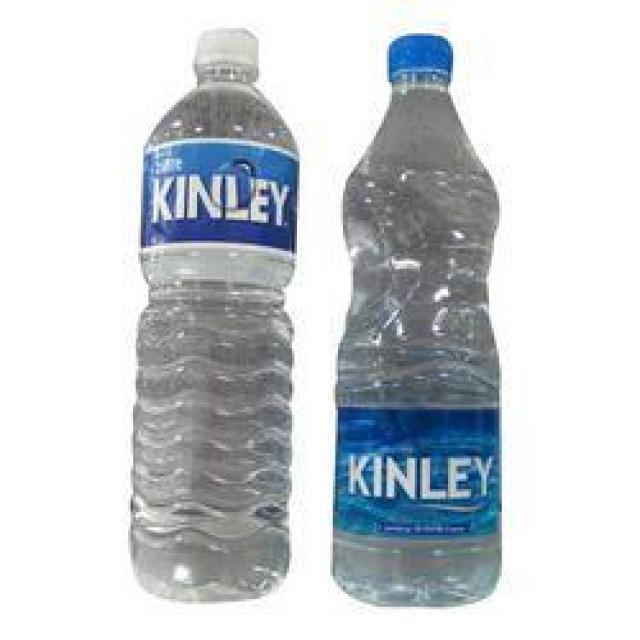bottle: (322, 14, 520, 609), (120, 8, 305, 610)
